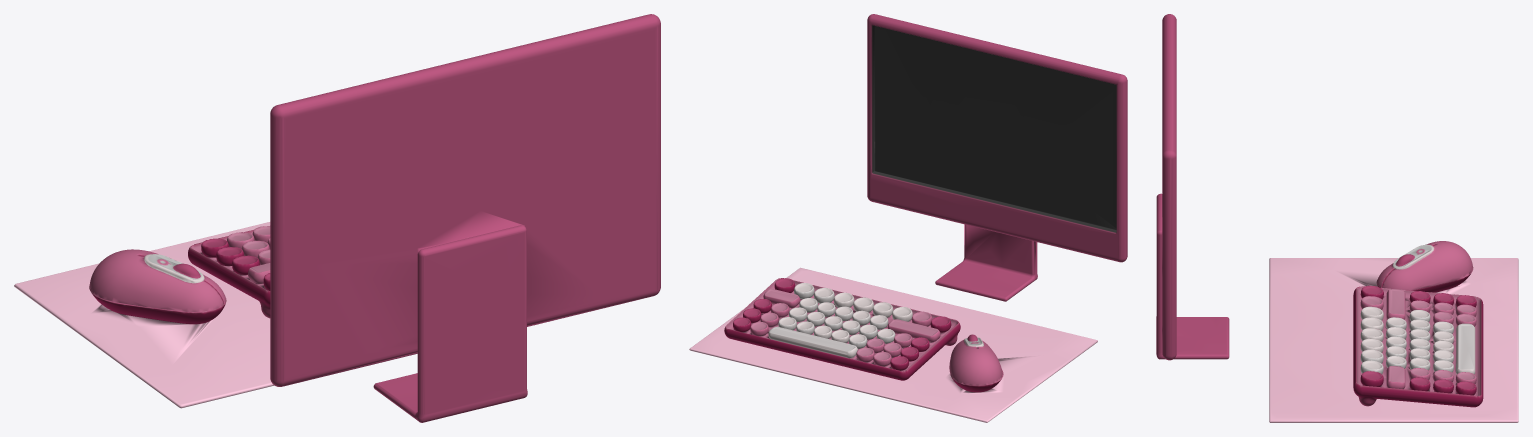
File: Pink_pc.glb
3 views of the same model, side by side, from view 1: azimuth 30°, elevation 25°; view 2: azimuth 150°, elevation 25°; view 3: azimuth 270°, elevation 25° (orthographic). The views are drawn at different scales.
Visible parts, largest first — view 1: Keys; view 2: Keys; view 3: Keys.
Part boxes in pixels (bbox=[...]): Keys: bbox=[14, 14, 660, 422]; Keys: bbox=[689, 14, 1127, 422]; Keys: bbox=[1156, 14, 1518, 422].
Size of the model in its own units: 279 by 207 by 262.
2 materials, 1 textured.
